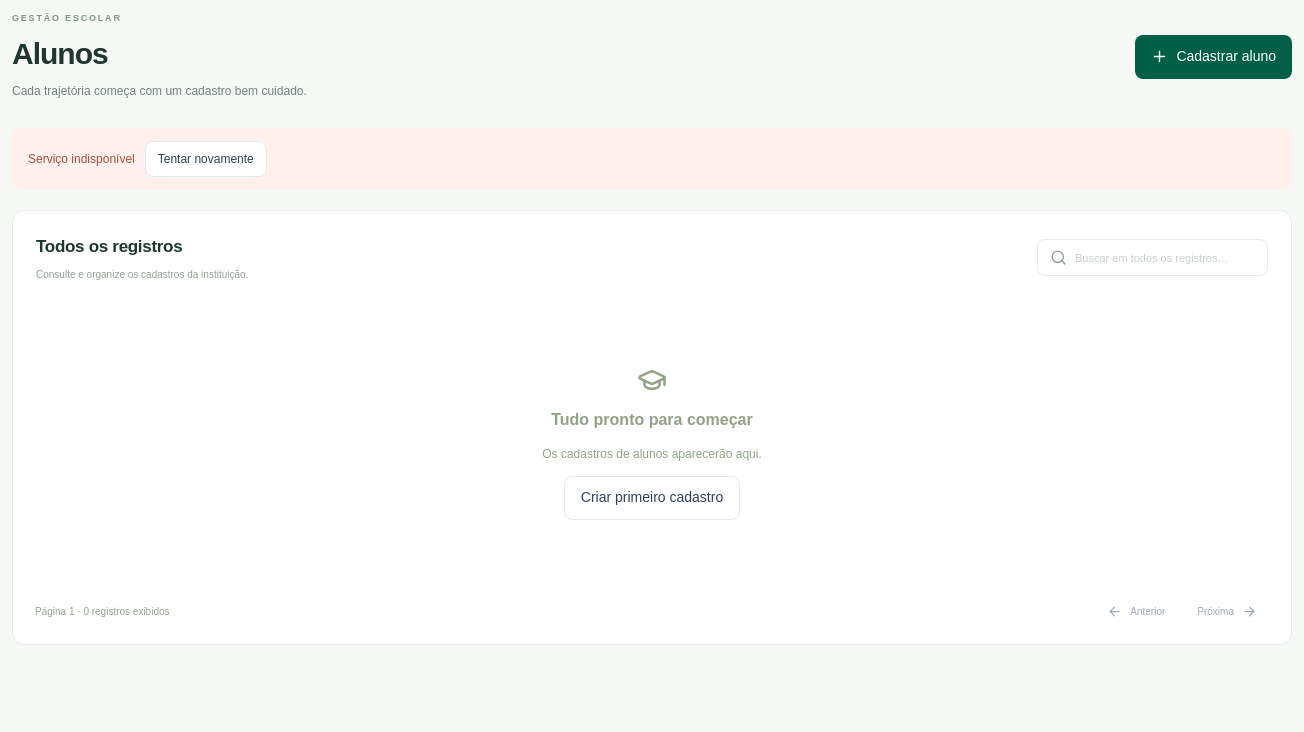
Test: Cadastro integrado à API › oferece recuperação de erro sem apresentar sucesso
Check: the message shows "Serviço indisponível", box [28,152,135,166]
Click the button "Tentar novamente": click(206, 159) [145,141,267,177]
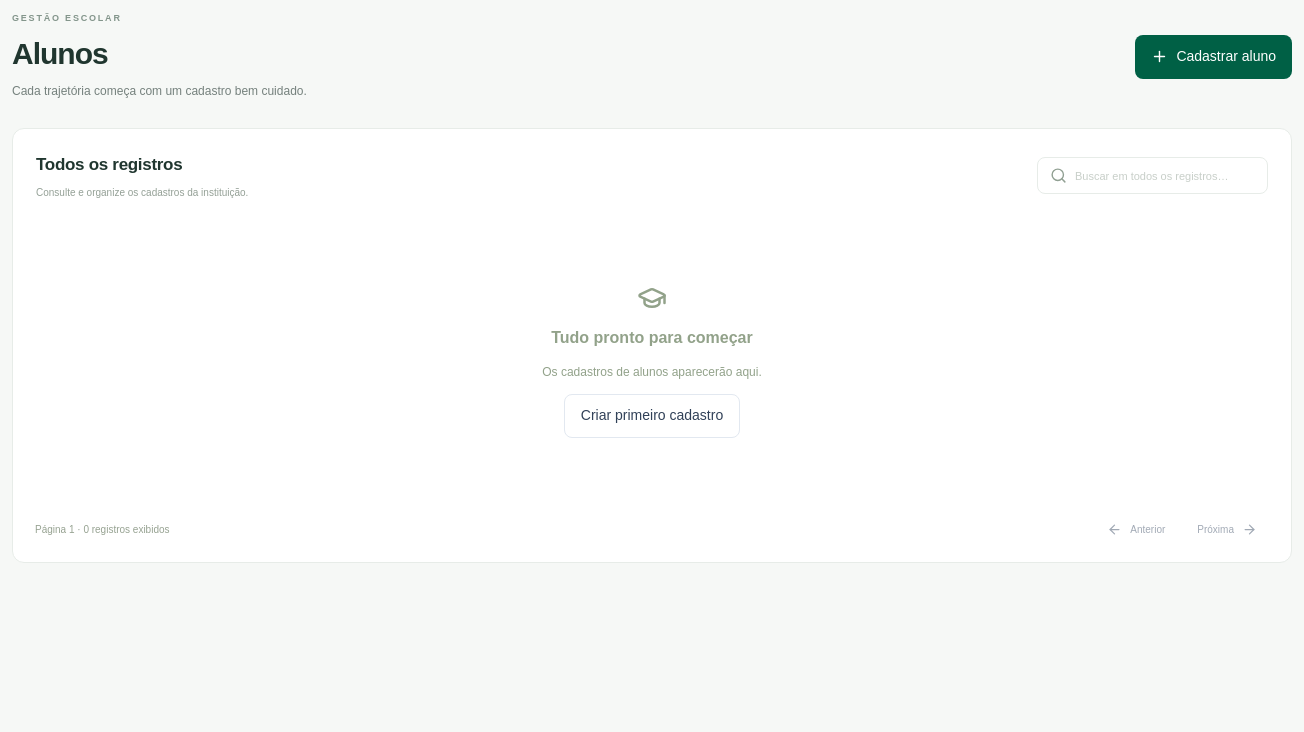
Check: the heading "Tudo pronto para começar" is shown, box [551,326,753,350]
Check: the message "Serviço indisponível Tentar novamente" is gone
